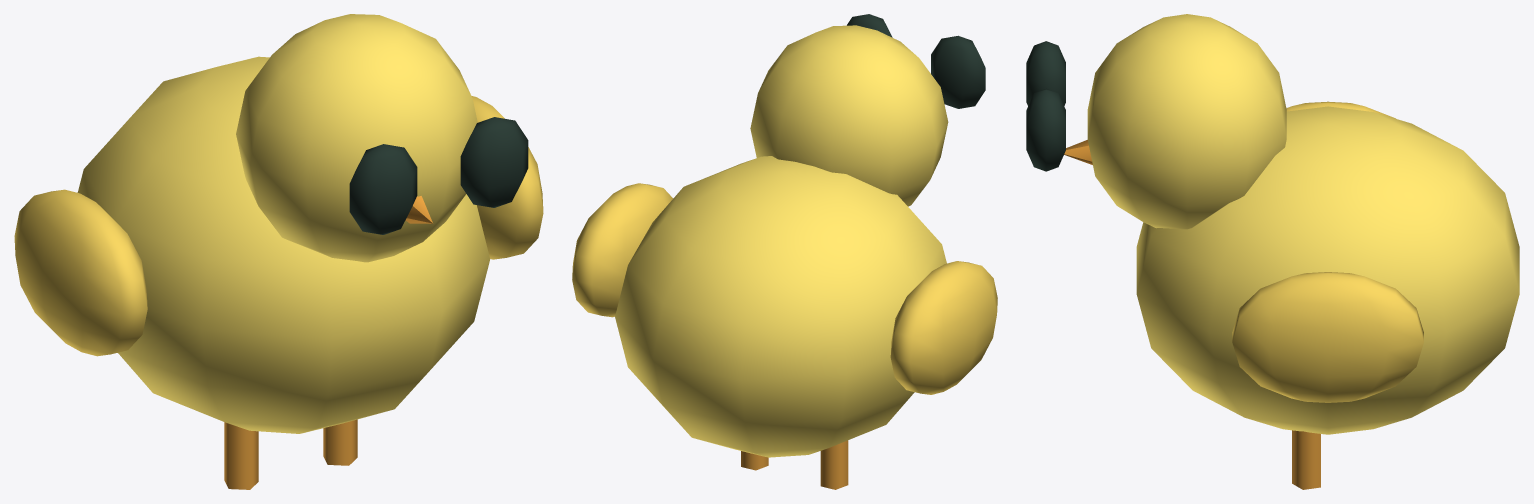
The model's file is chick.glb.
3 renders of one model, left to right at view 1: azimuth 30°, elevation 25°; view 2: azimuth 150°, elevation 25°; view 3: azimuth 270°, elevation 25°, orthographic. The views are drawn at different scales.
Parts seen in each view (by area): view 1: Torso, Skull, WingMesh (×2), Eye (×2), LegMesh (×2); view 2: Torso, Skull, WingMesh (×2), Eye (×2), LegMesh; view 3: Torso, Skull, WingMesh (×2), Eye (×2), LegMesh.
Boxes of the visible parts, box(x1,y1,x2,y2) form: Torso: box(77, 56, 490, 433); Skull: box(236, 14, 477, 262); WingMesh (×2): box(14, 96, 543, 356); Eye (×2): box(349, 117, 528, 234); LegMesh (×2): box(224, 419, 357, 489); Torso: box(615, 156, 946, 457); Skull: box(750, 25, 948, 206); WingMesh (×2): box(572, 183, 997, 394); Eye (×2): box(847, 14, 985, 108); LegMesh: box(820, 440, 848, 489); Torso: box(1136, 106, 1519, 434); Skull: box(1087, 14, 1286, 229); WingMesh (×2): box(1232, 101, 1423, 402); Eye (×2): box(1026, 41, 1065, 171); LegMesh: box(1292, 430, 1320, 489).
Size of the model in its own units: 0.24 by 0.24 by 0.245.
